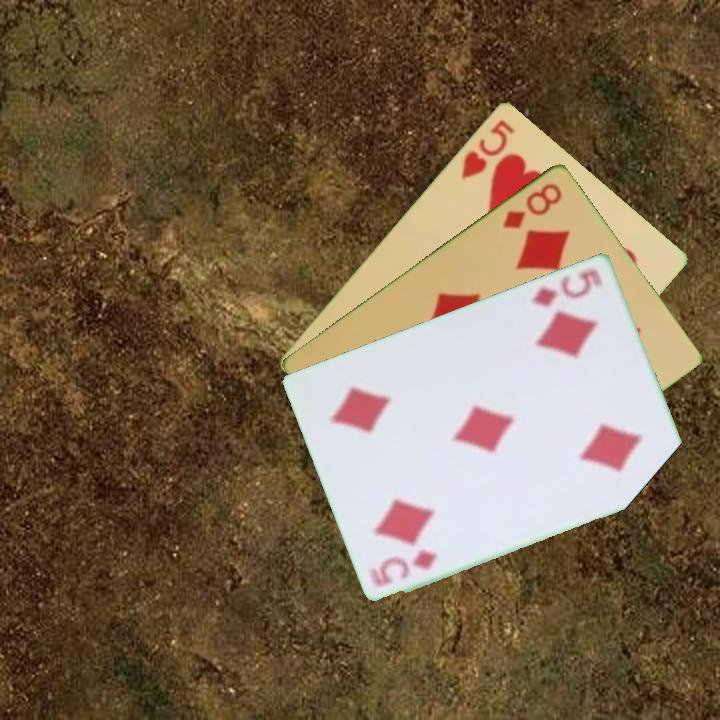5d: (529, 265, 606, 309), (365, 545, 441, 589)
5h: (457, 115, 518, 182)
8d: (499, 179, 565, 232)
